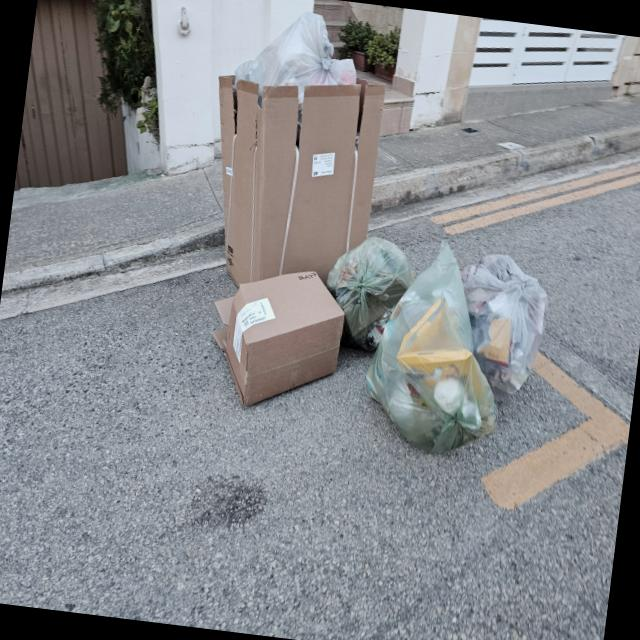grey_bag: (354, 236, 515, 464), (446, 250, 555, 404), (321, 228, 422, 354), (234, 3, 364, 85)
other_waste: (194, 74, 393, 249), (204, 260, 348, 419)
